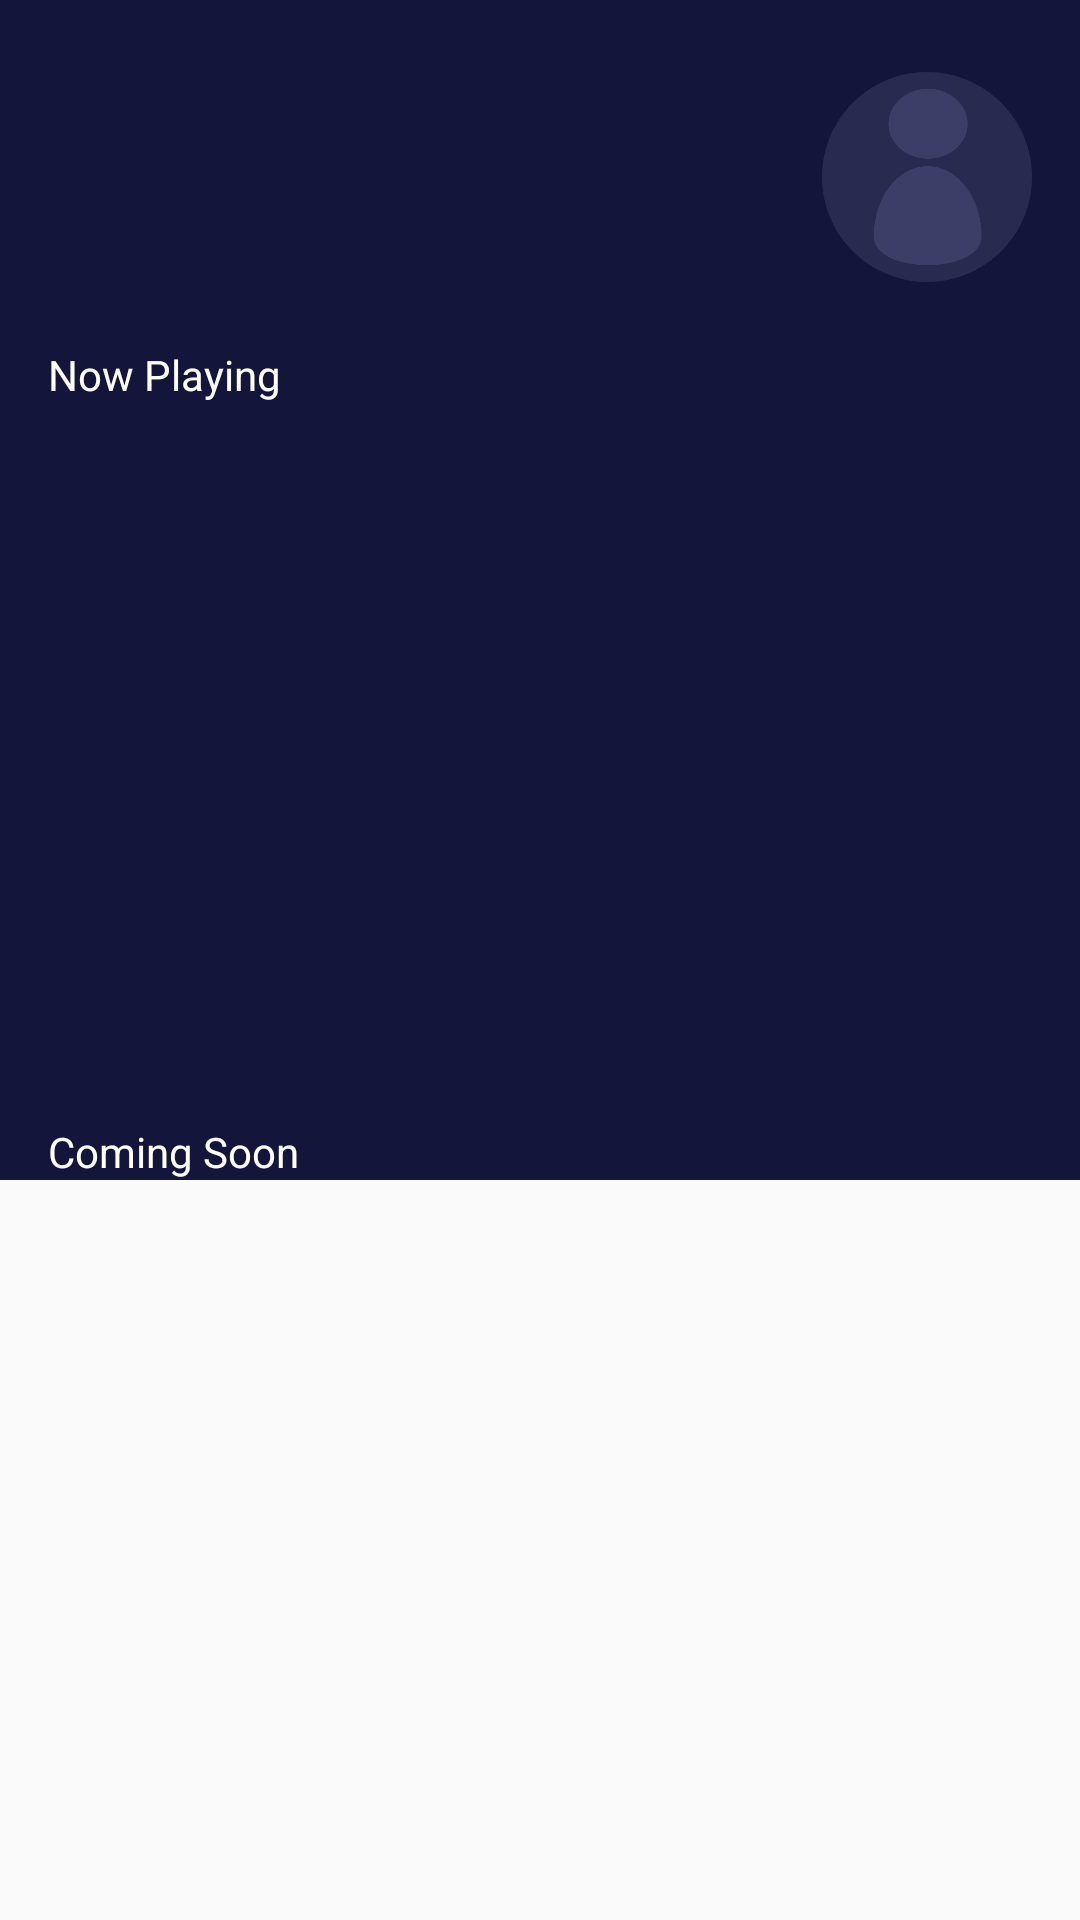

Named icons in this screenshot (1080w x 1920h) and their centers, point (x, y):
user pic: point (928, 177)
